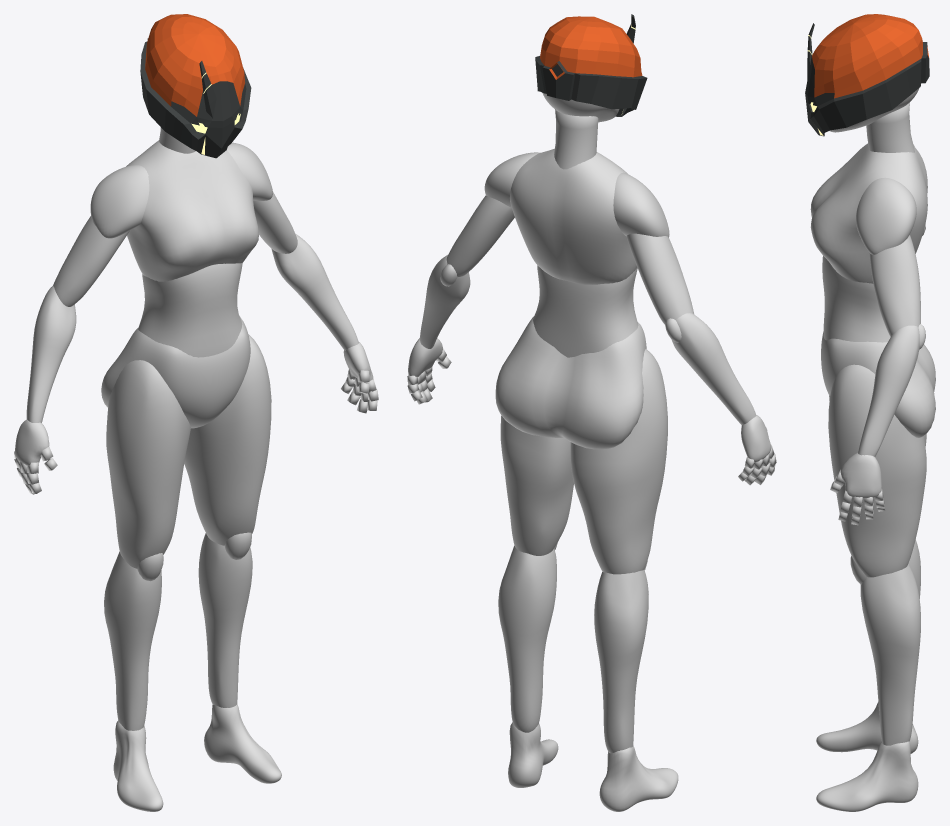
File: trevbot.glb
3 renders of one model, left to right at view 1: azimuth 30°, elevation 25°; view 2: azimuth 150°, elevation 25°; view 3: azimuth 270°, elevation 25°, orthographic.
Visible parts, largest first — view 1: F_Chest, F_Upper_Leg_R, horn, F_Upper_Leg_L, F_Stomach, F_Hips, F_Lower_Leg_R, F_Lower_Leg_L, F_Lower_Arm_R, F_Lower_Arm_L, F_Shoulder_R, F_Feet_L (+6 smaller); view 2: F_Hips, F_Chest, F_Upper_Leg_R, horn, F_Lower_Leg_L, F_Upper_Leg_L, F_Lower_Leg_R, F_Stomach, F_Lower_Arm_R, F_Upper_Arm_R, F_Feet_R, F_Upper_Arm_L (+8 smaller); view 3: F_Upper_Leg_L, horn, F_Chest, F_Lower_Leg_L, F_Hips, F_Feet_L, F_Lower_Arm_L, F_Stomach, F_Upper_Arm_L, F_Shoulder_L, F_Feet_R, F_Neck (+3 smaller).
Boxes of the visible parts, x1=… form: F_Chest: x1=126, y1=140, x2=258, y2=281; F_Upper_Leg_R: x1=106, y1=360, x2=190, y2=568; horn: x1=140, y1=14, x2=251, y2=158; F_Upper_Leg_L: x1=184, y1=334, x2=271, y2=545; F_Stomach: x1=138, y1=263, x2=242, y2=357; F_Hips: x1=101, y1=317, x2=250, y2=428; F_Lower_Leg_R: x1=104, y1=551, x2=161, y2=730; F_Lower_Leg_L: x1=198, y1=533, x2=252, y2=707; F_Lower_Arm_R: x1=26, y1=286, x2=76, y2=422; F_Lower_Arm_L: x1=271, y1=234, x2=358, y2=350; F_Shoulder_R: x1=90, y1=165, x2=149, y2=238; F_Feet_L: x1=204, y1=704, x2=281, y2=783; F_Hips: x1=495, y1=316, x2=646, y2=449; F_Chest: x1=510, y1=148, x2=637, y2=284; F_Upper_Leg_R: x1=570, y1=349, x2=667, y2=574; horn: x1=535, y1=14, x2=647, y2=116; F_Lower_Leg_L: x1=498, y1=545, x2=556, y2=732; F_Upper_Leg_L: x1=500, y1=415, x2=573, y2=555; F_Lower_Leg_R: x1=594, y1=569, x2=648, y2=753; F_Stomach: x1=533, y1=265, x2=638, y2=357; F_Lower_Arm_R: x1=671, y1=313, x2=756, y2=425; F_Upper_Arm_R: x1=626, y1=233, x2=693, y2=324; F_Feet_R: x1=599, y1=746, x2=678, y2=811; F_Upper_Arm_L: x1=446, y1=195, x2=514, y2=276; F_Upper_Leg_L: x1=828, y1=364, x2=926, y2=577; horn: x1=805, y1=14, x2=929, y2=136; F_Chest: x1=810, y1=143, x2=927, y2=283; F_Lower_Leg_L: x1=860, y1=564, x2=920, y2=745; F_Hips: x1=821, y1=331, x2=935, y2=437; F_Feet_L: x1=816, y1=741, x2=918, y2=811; F_Lower_Arm_L: x1=858, y1=325, x2=919, y2=456; F_Stomach: x1=822, y1=256, x2=890, y2=342; F_Upper_Arm_L: x1=869, y1=235, x2=920, y2=336; F_Shoulder_L: x1=856, y1=177, x2=916, y2=254; F_Feet_R: x1=816, y1=702, x2=918, y2=753; F_Neck: x1=866, y1=102, x2=914, y2=152.
Bounding box in the file's own units: 6.11 × 12.65 × 1.98.
